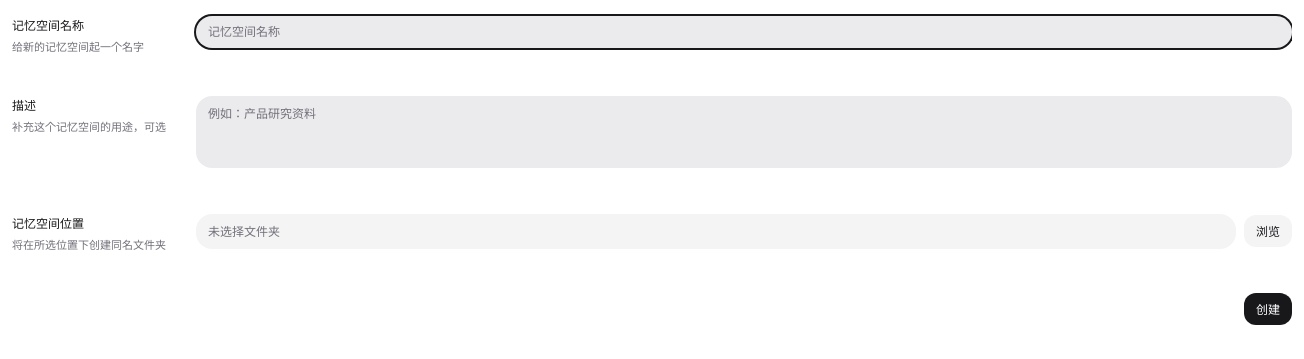
Test: CreateWorkspaceForm › rejects workspace names that contain path separators
Type "Family/memories" into the field labelled "记忆空间名称". click: (744, 32)
box: [196, 16, 1292, 48]
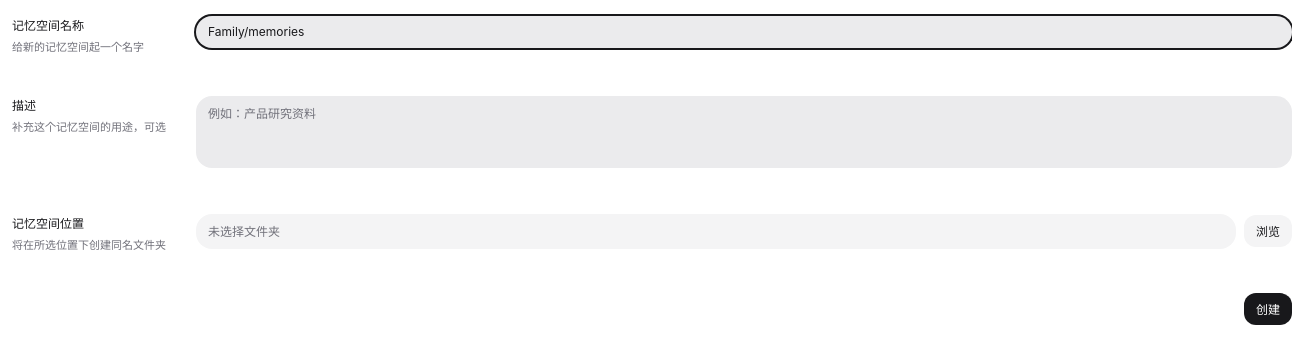
Click the button "浏览". click: (1268, 231)
box: [1244, 215, 1292, 247]
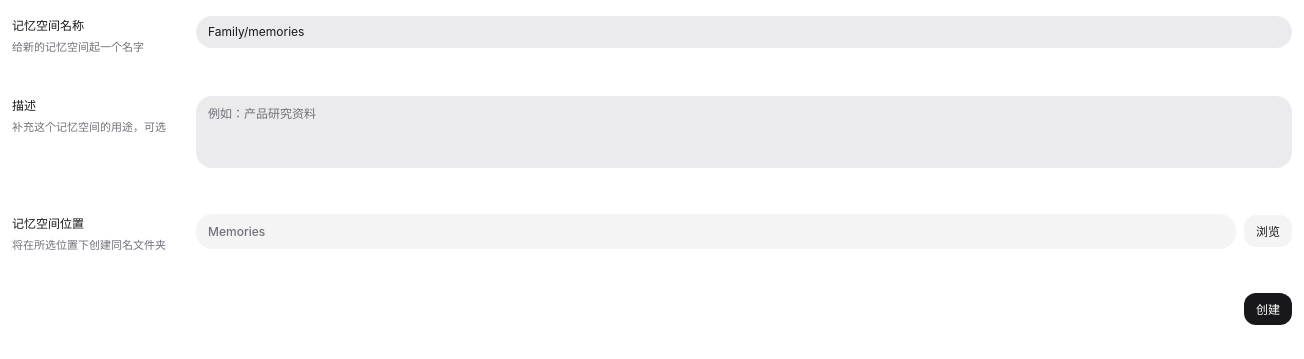
Result: the text "Memories" is shown at [196, 214, 1236, 249]
Click the button "创建". click: (1268, 309)
box: [1244, 293, 1292, 325]
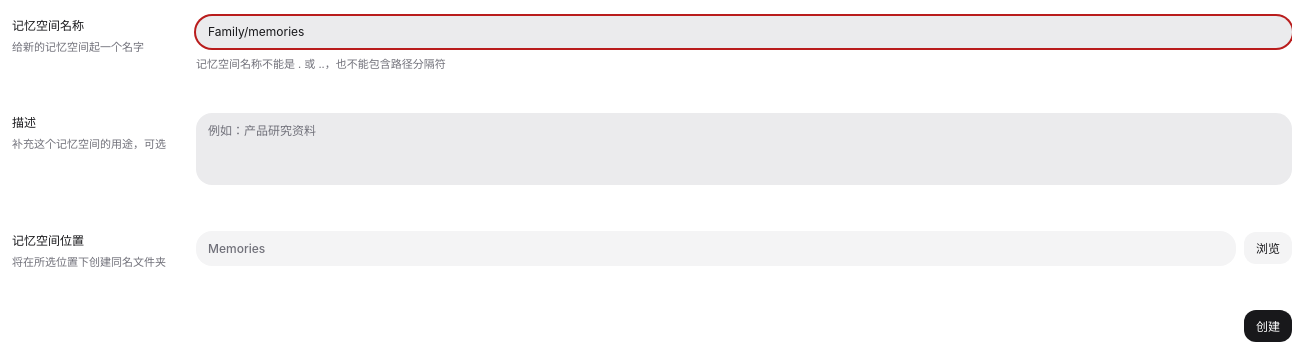
Result: the text "记忆空间名称不能是 . 或 ..，也不能包含路径分隔符" is shown at [196, 57, 446, 71]
